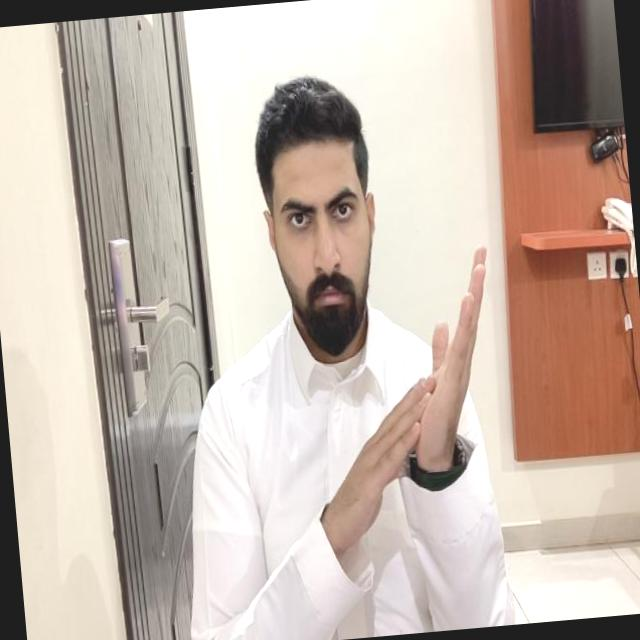complaint: (300, 240, 516, 556)
